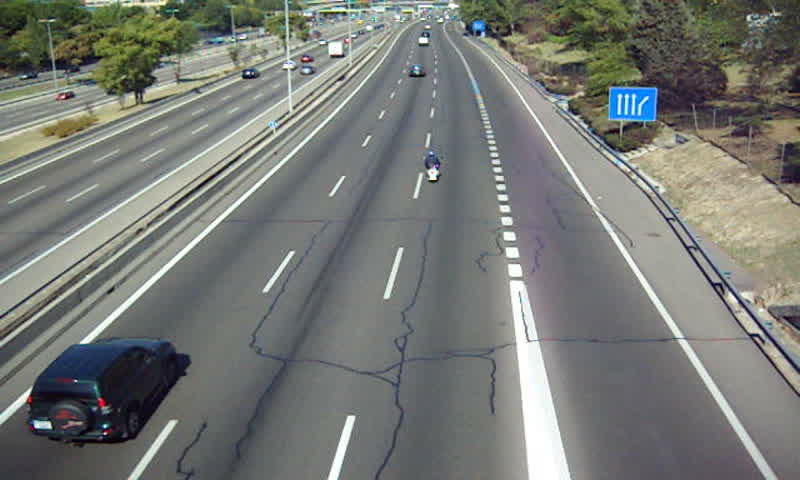car: (29, 338, 174, 440), (407, 64, 427, 79)
motorcycle: (422, 152, 440, 184)
